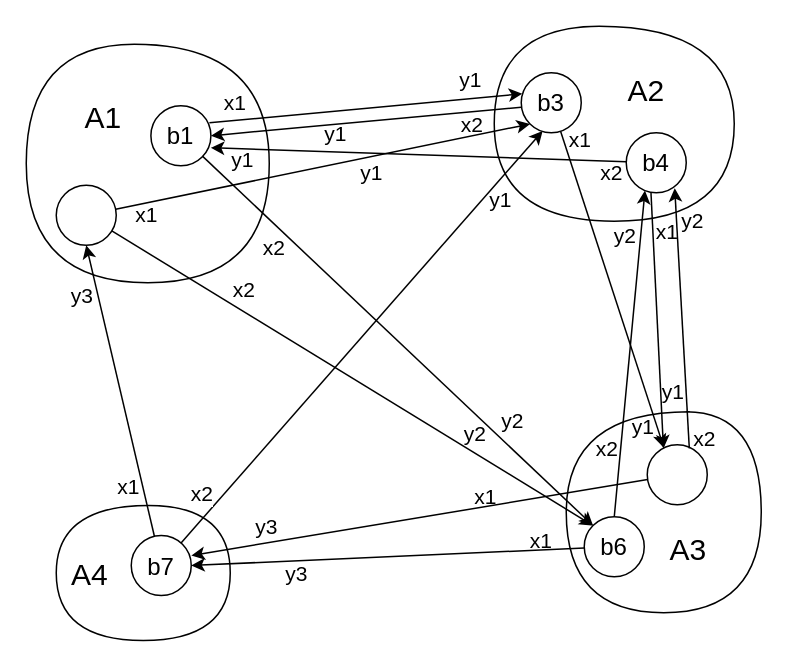
Image size: 788x668. Some labels were removed from this diagram. Each missing label, with the box of its shape:
b2: (55, 184, 116, 245)
b5: (646, 443, 707, 505)
